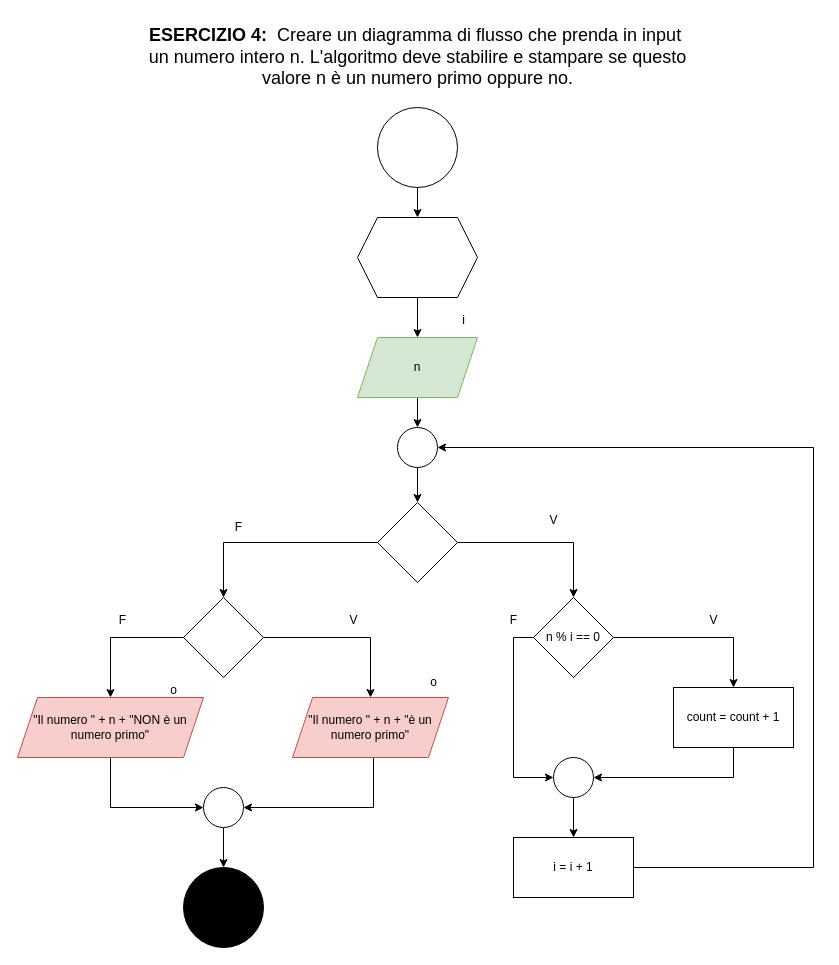
Some shapes in this 839 by 965 pixel diagram are drawn without their labels. Each missing label, with the centre of its shape:
"count == 2" goes at [223,637].
"i <= n" goes at [417,542].
"n, count = 0, i = 1" goes at [417,257].
